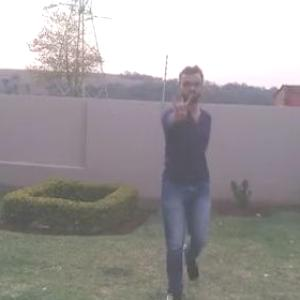takeoff-hand: (162, 90, 199, 129)
